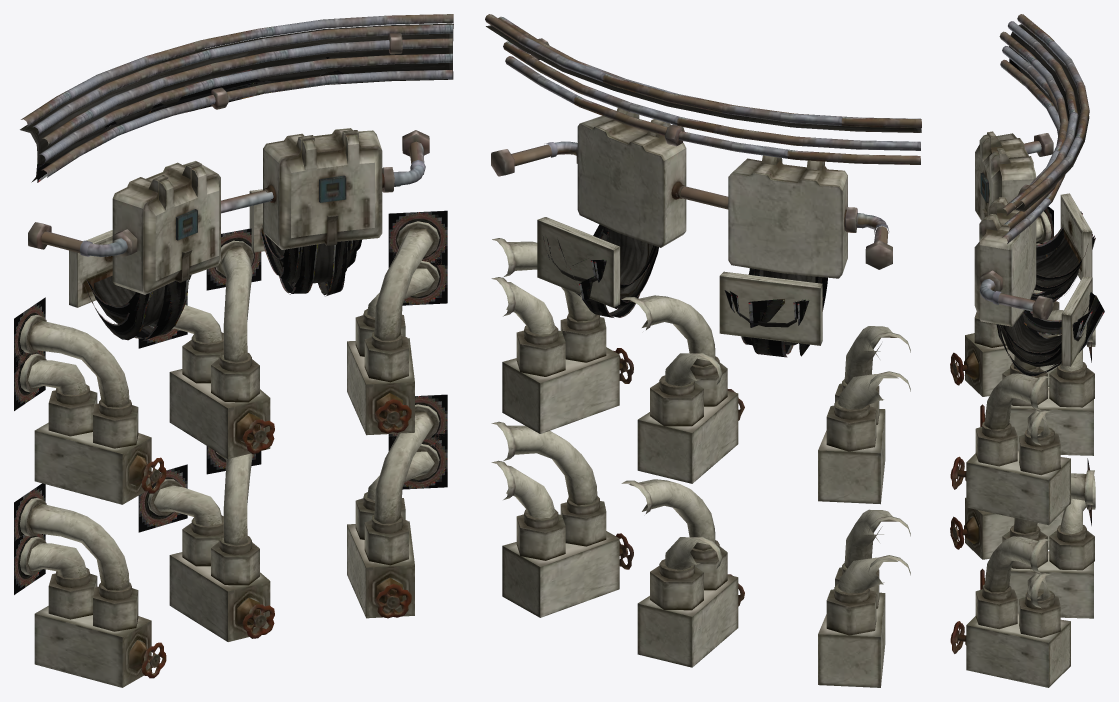
Rendered from submarine_greeble_150x200_04_90bend.glb.
3 renders of one model, left to right at view 1: azimuth 30°, elevation 25°; view 2: azimuth 150°, elevation 25°; view 3: azimuth 270°, elevation 25°, orthographic. The views are drawn at different scales.
Visible parts, largest first — view 1: submarine_greeble_150x200_04_90bend_LOD0; view 2: submarine_greeble_150x200_04_90bend_LOD0; view 3: submarine_greeble_150x200_04_90bend_LOD0.
Part boxes in pixels (box(x1,y1,x2,y2)): submarine_greeble_150x200_04_90bend_LOD0: box(14, 14, 453, 687); submarine_greeble_150x200_04_90bend_LOD0: box(485, 14, 921, 687); submarine_greeble_150x200_04_90bend_LOD0: box(950, 14, 1104, 687).
Bounding box in the file's own units: 1.58 × 1.94 × 0.5447.
Materials: 2 (2 with a texture image).
